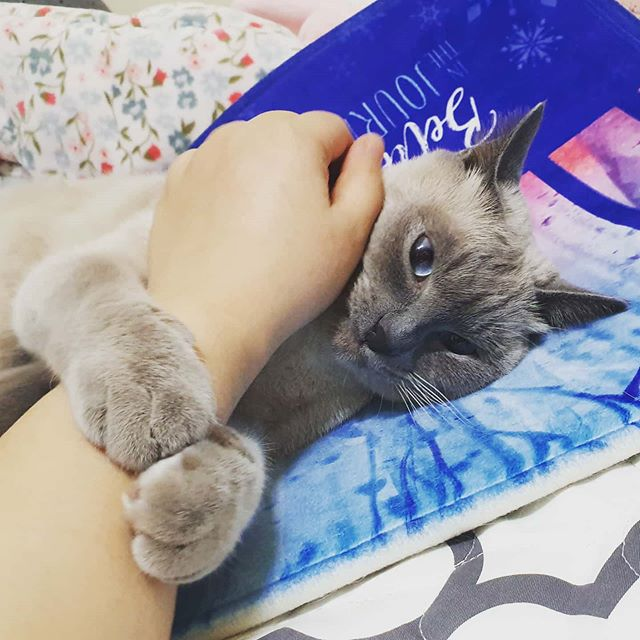cat: (311, 90, 634, 413)
